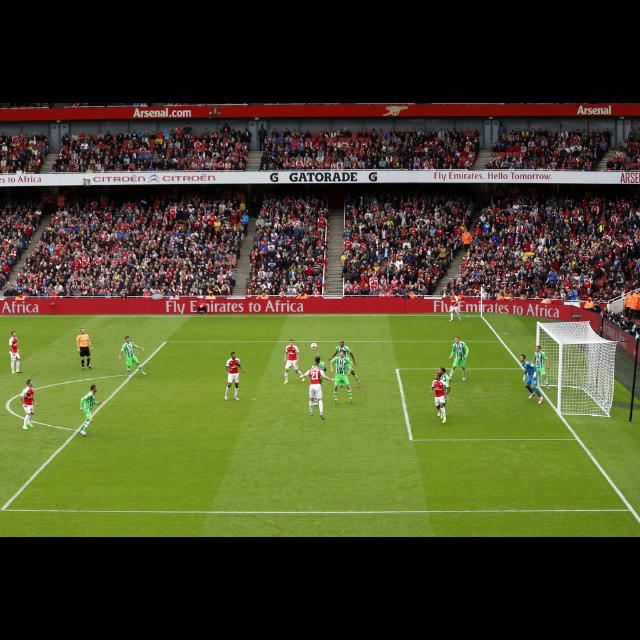Football: (310, 341, 316, 349)
